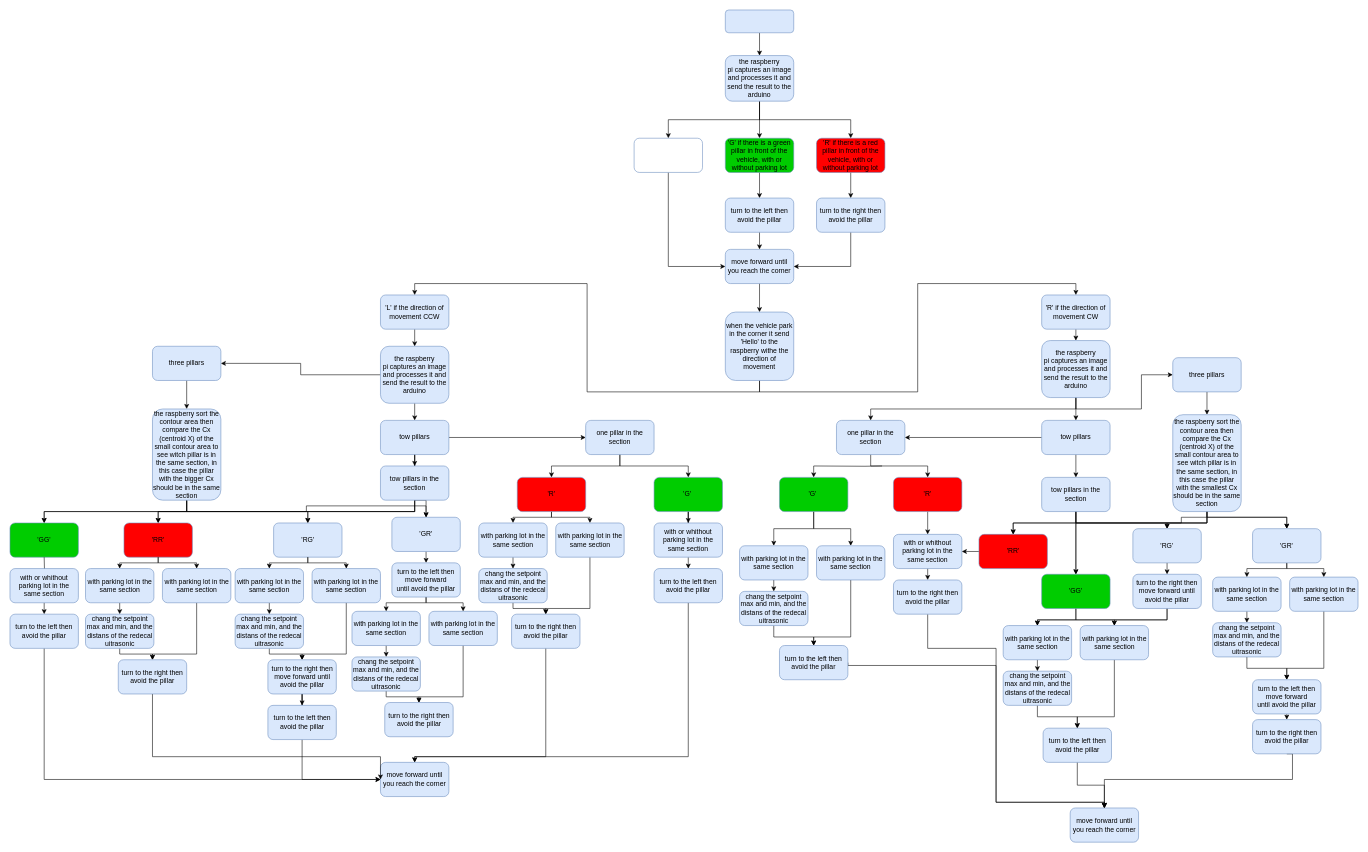
The diagram is 1368 pixels wide and 852 high, and some of its shapes have lost their labels. The box of each missing label's shape, as (x1, y1, x2, y2) in pixels:
'N' if there is no pillar in front of the vehicle, with or without parking lot: (634, 138, 703, 172)
Start: (725, 9, 794, 33)
